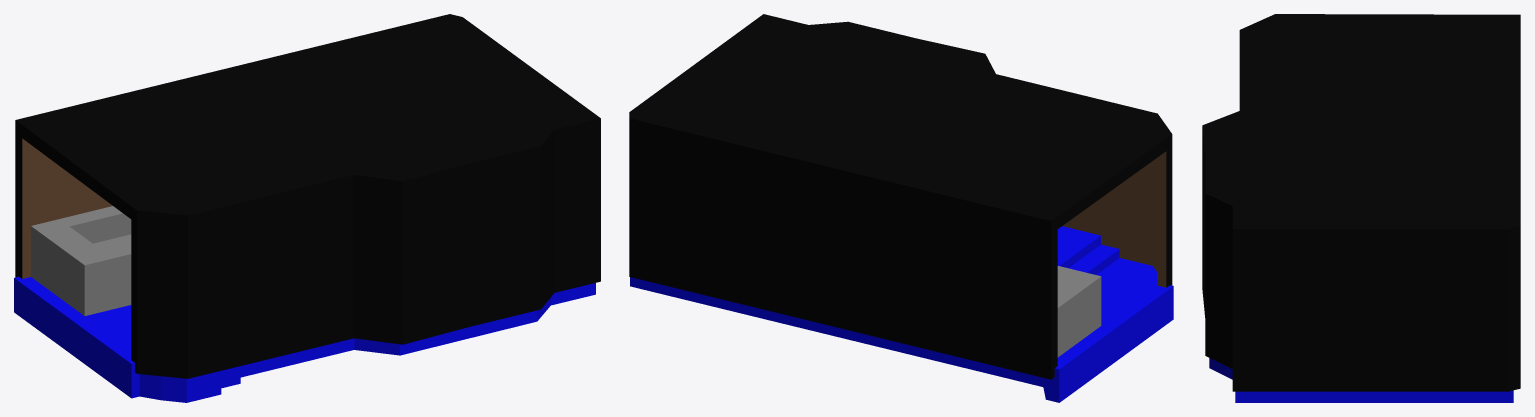
The model's file is Tavern.glb.
The picture shows the model from 3 angles, left to right: view 1: azimuth 30°, elevation 25°; view 2: azimuth 150°, elevation 25°; view 3: azimuth 270°, elevation 25°; orthographic projection. The views are drawn at different scales.
Parts seen in each view (by area): view 1: Room, Floor, Counter; view 2: Room, Floor, Counter; view 3: Room, Floor.
Boxes of the visible parts, box(x1,y1,x2,y2) form: Room: box(15, 14, 600, 378); Floor: box(14, 276, 595, 402); Counter: box(31, 206, 131, 315); Room: box(629, 14, 1172, 379); Floor: box(630, 226, 1173, 402); Counter: box(1057, 266, 1101, 357); Room: box(1202, 14, 1520, 391); Floor: box(1209, 358, 1513, 402).
Bounding box in the file's own units: 22.99 × 9.29 × 14.27.
